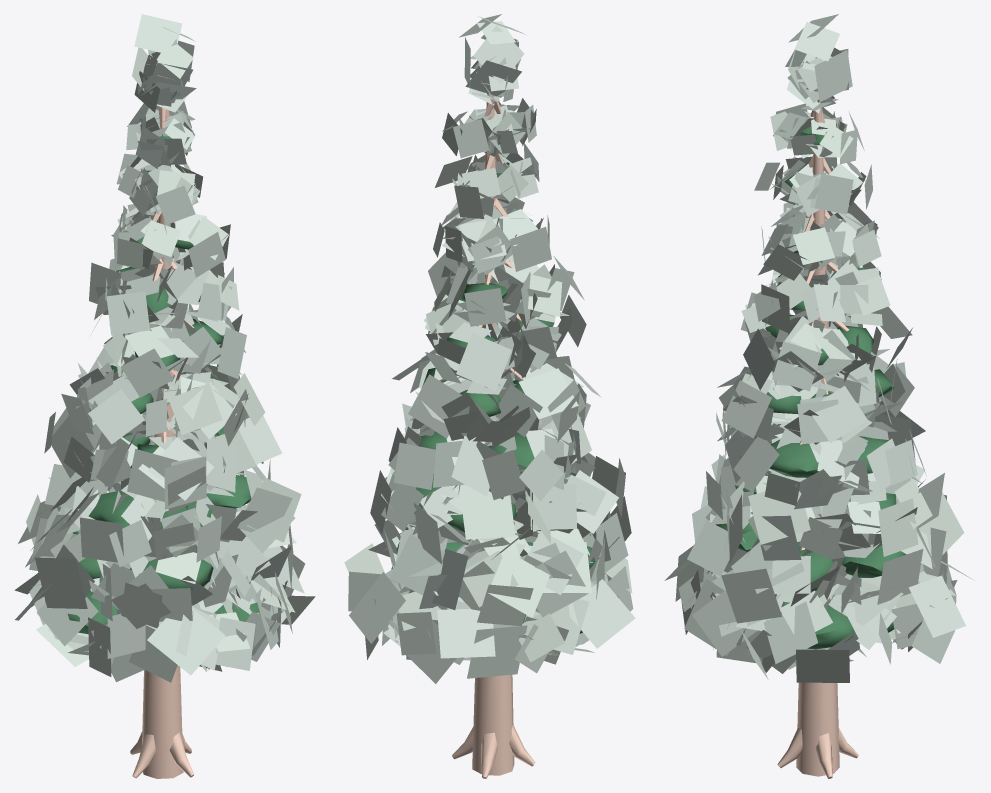
Rendered from tree_cedar.glb.
The picture shows the model from 3 angles, left to right: view 1: azimuth 30°, elevation 25°; view 2: azimuth 150°, elevation 25°; view 3: azimuth 270°, elevation 25°; orthographic projection.
Parts seen in each view (by area): view 1: tree_cedar_body; view 2: tree_cedar_body; view 3: tree_cedar_body.
Part boxes in pixels (bbox=[...]): tree_cedar_body: bbox=[14, 14, 315, 778]; tree_cedar_body: bbox=[344, 14, 635, 778]; tree_cedar_body: bbox=[664, 14, 973, 778].
Size of what is drawn, in the model's own units: 4.82 by 12.54 by 4.75.
